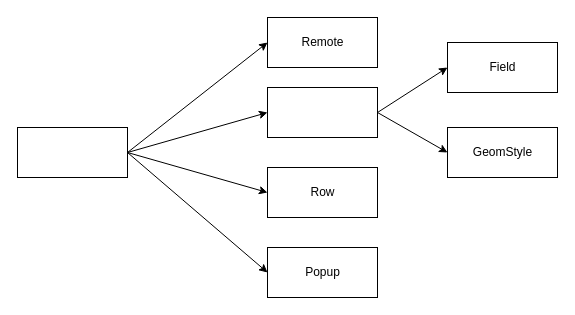
Image size: 575x315. Some labels were removed from this diagram. The shapes that lost their labels are listed below. From the top down, each one's centre as x and y in pixels, then its label:
At point (322, 112): "TableInfo".
At point (72, 152): "Table".
